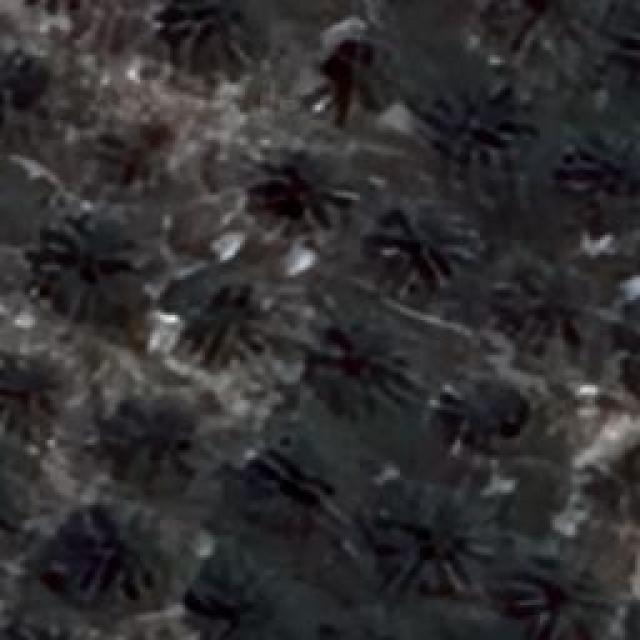PalmTree: (36, 208, 136, 332), (422, 75, 532, 175), (244, 146, 352, 244), (378, 488, 474, 598), (304, 300, 398, 412), (62, 507, 168, 595), (435, 364, 530, 462), (172, 266, 266, 364), (238, 438, 332, 532), (162, 0, 262, 88), (98, 398, 194, 488), (500, 270, 592, 362), (479, 0, 582, 75), (375, 208, 480, 280), (515, 555, 603, 640), (181, 550, 264, 640), (562, 130, 640, 220), (324, 29, 396, 122), (0, 358, 58, 452), (590, 1, 640, 101), (595, 428, 640, 532), (0, 40, 44, 112), (0, 608, 102, 639)
